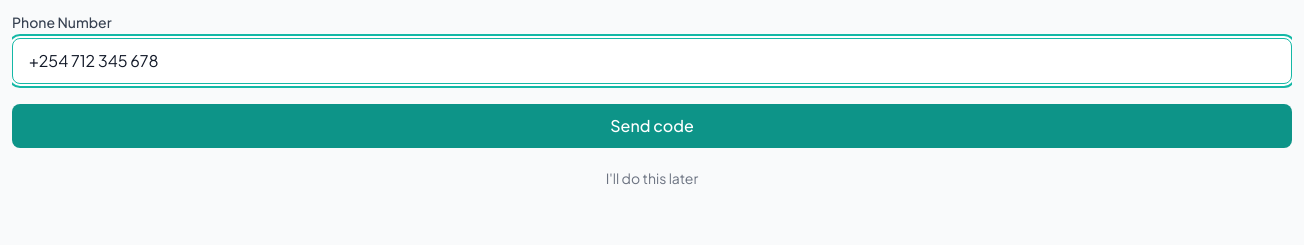
Test case: the resend control › is offered the moment the countdown reaches zero
The width and height of the screenshot is (1304, 245).
Click the button "Send code". click: (652, 126)
box: x1=12 y1=104 x2=1292 y2=148
Wait 60000 ms
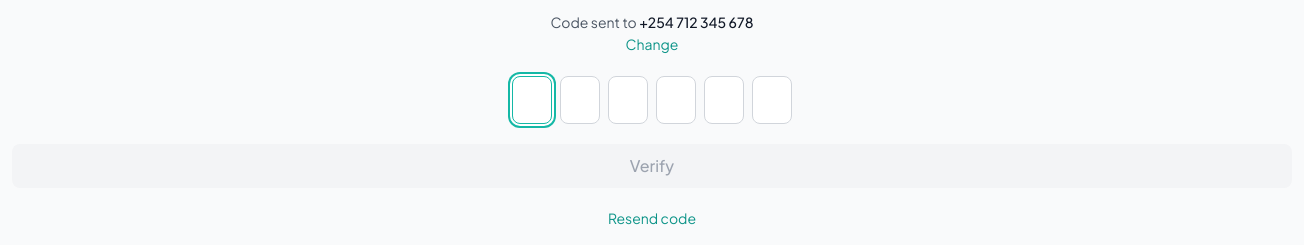
expect the button "Resend code" is shown: met, box x1=608 y1=208 x2=696 y2=228
